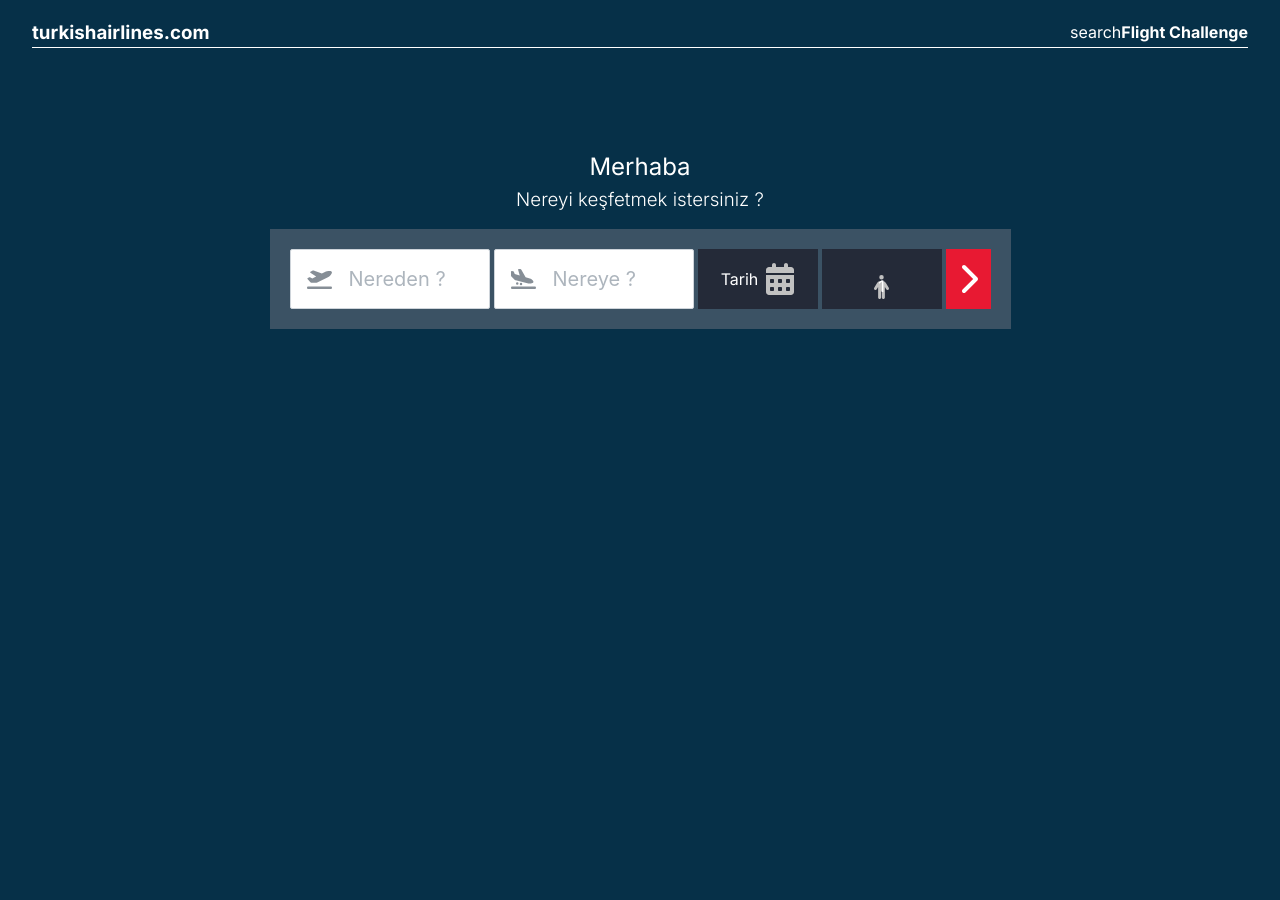
Scenario: Home › should not submit the form if origin city and destination city are not provided
Click the button with test id "formSubmit": (968, 279) [946,249,990,309]
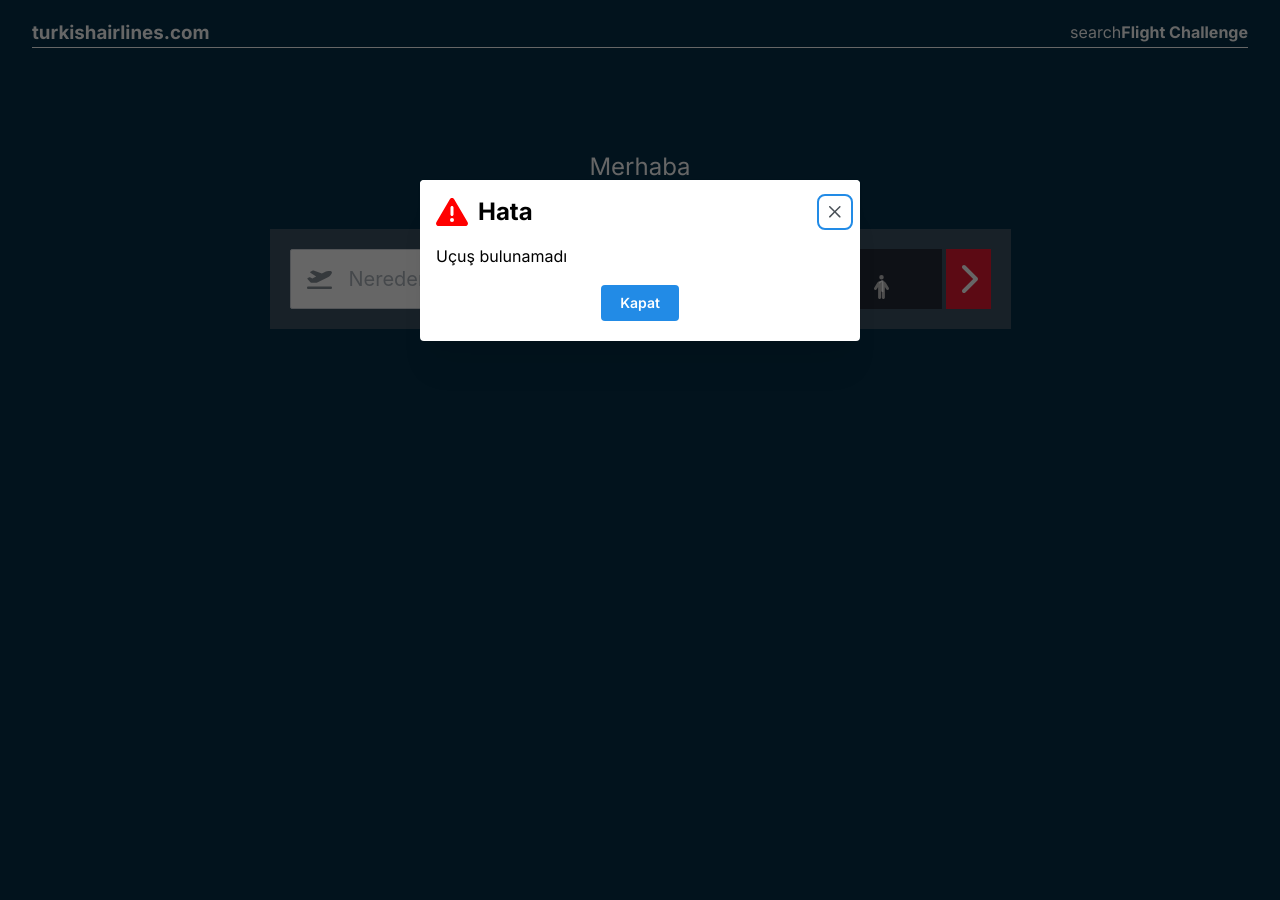
Now the text "Uçuş bulunamadı" is shown, box [436,246,567,266]
